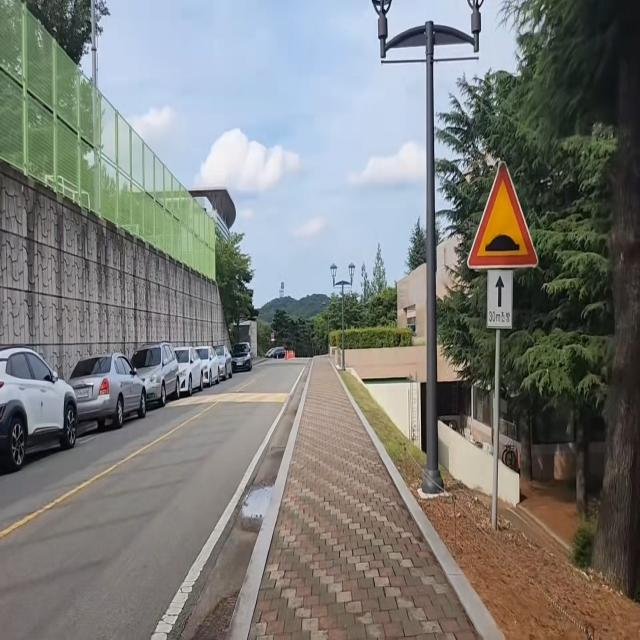obstacle: (366, 0, 488, 490), (463, 154, 541, 545)
road: (0, 360, 310, 640)
sidewalk: (232, 361, 507, 640)
